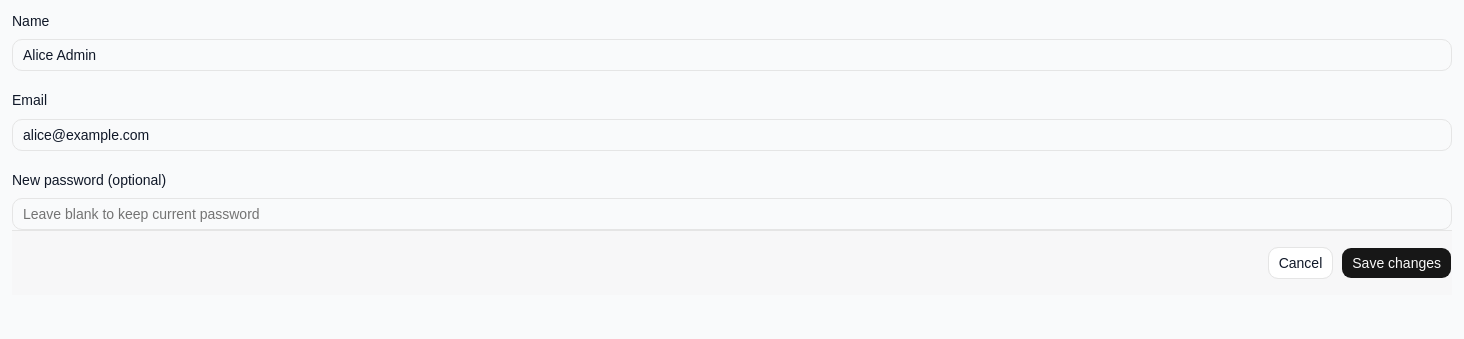
Test: UserForm — edit mode › surfaces server-side conflict when email is already in use
The image size is (1464, 339).
Replace the text in the field labelled "Email" with "taken@example.com" at (732, 134), box [12,118,1452,150]
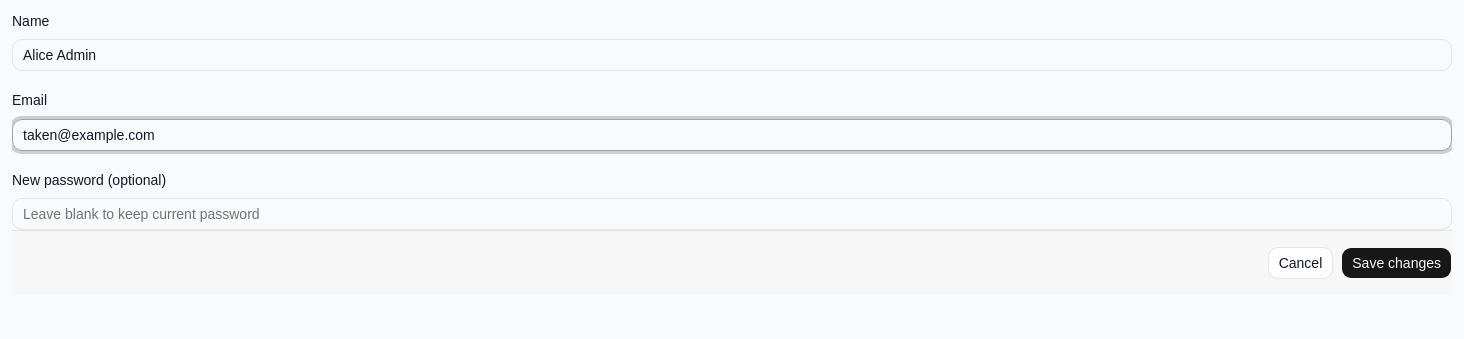
Click the button "Save changes" at (1397, 263), box [1341,247,1452,279]
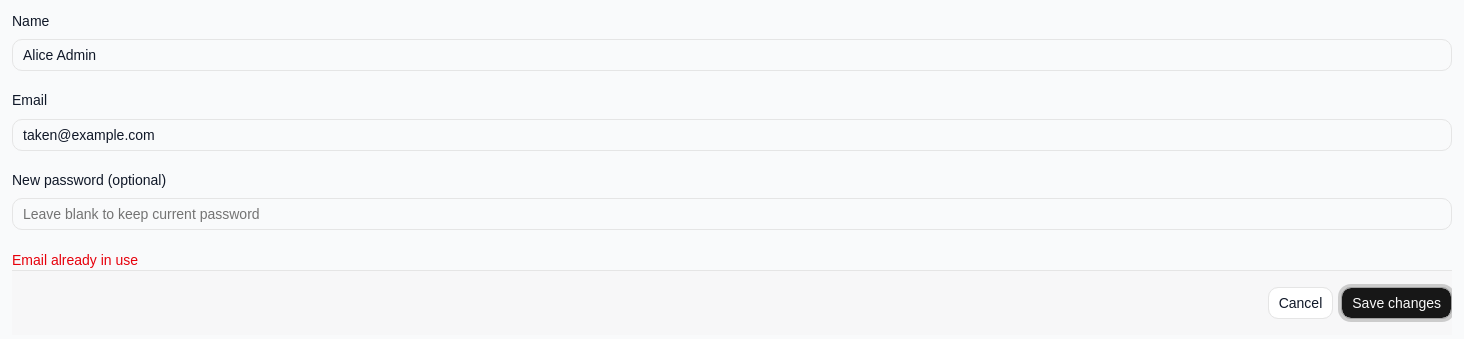
Expected: the text "Email already in use" is shown, [12,252,138,268]
